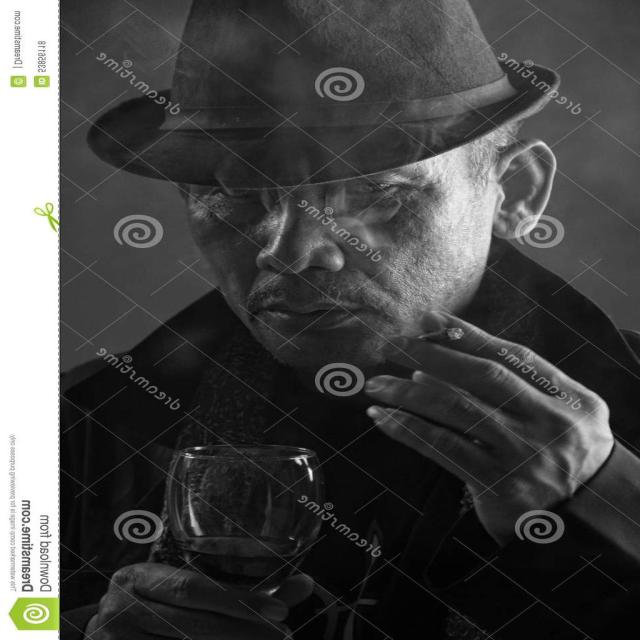smoking: (180, 121, 579, 450)
